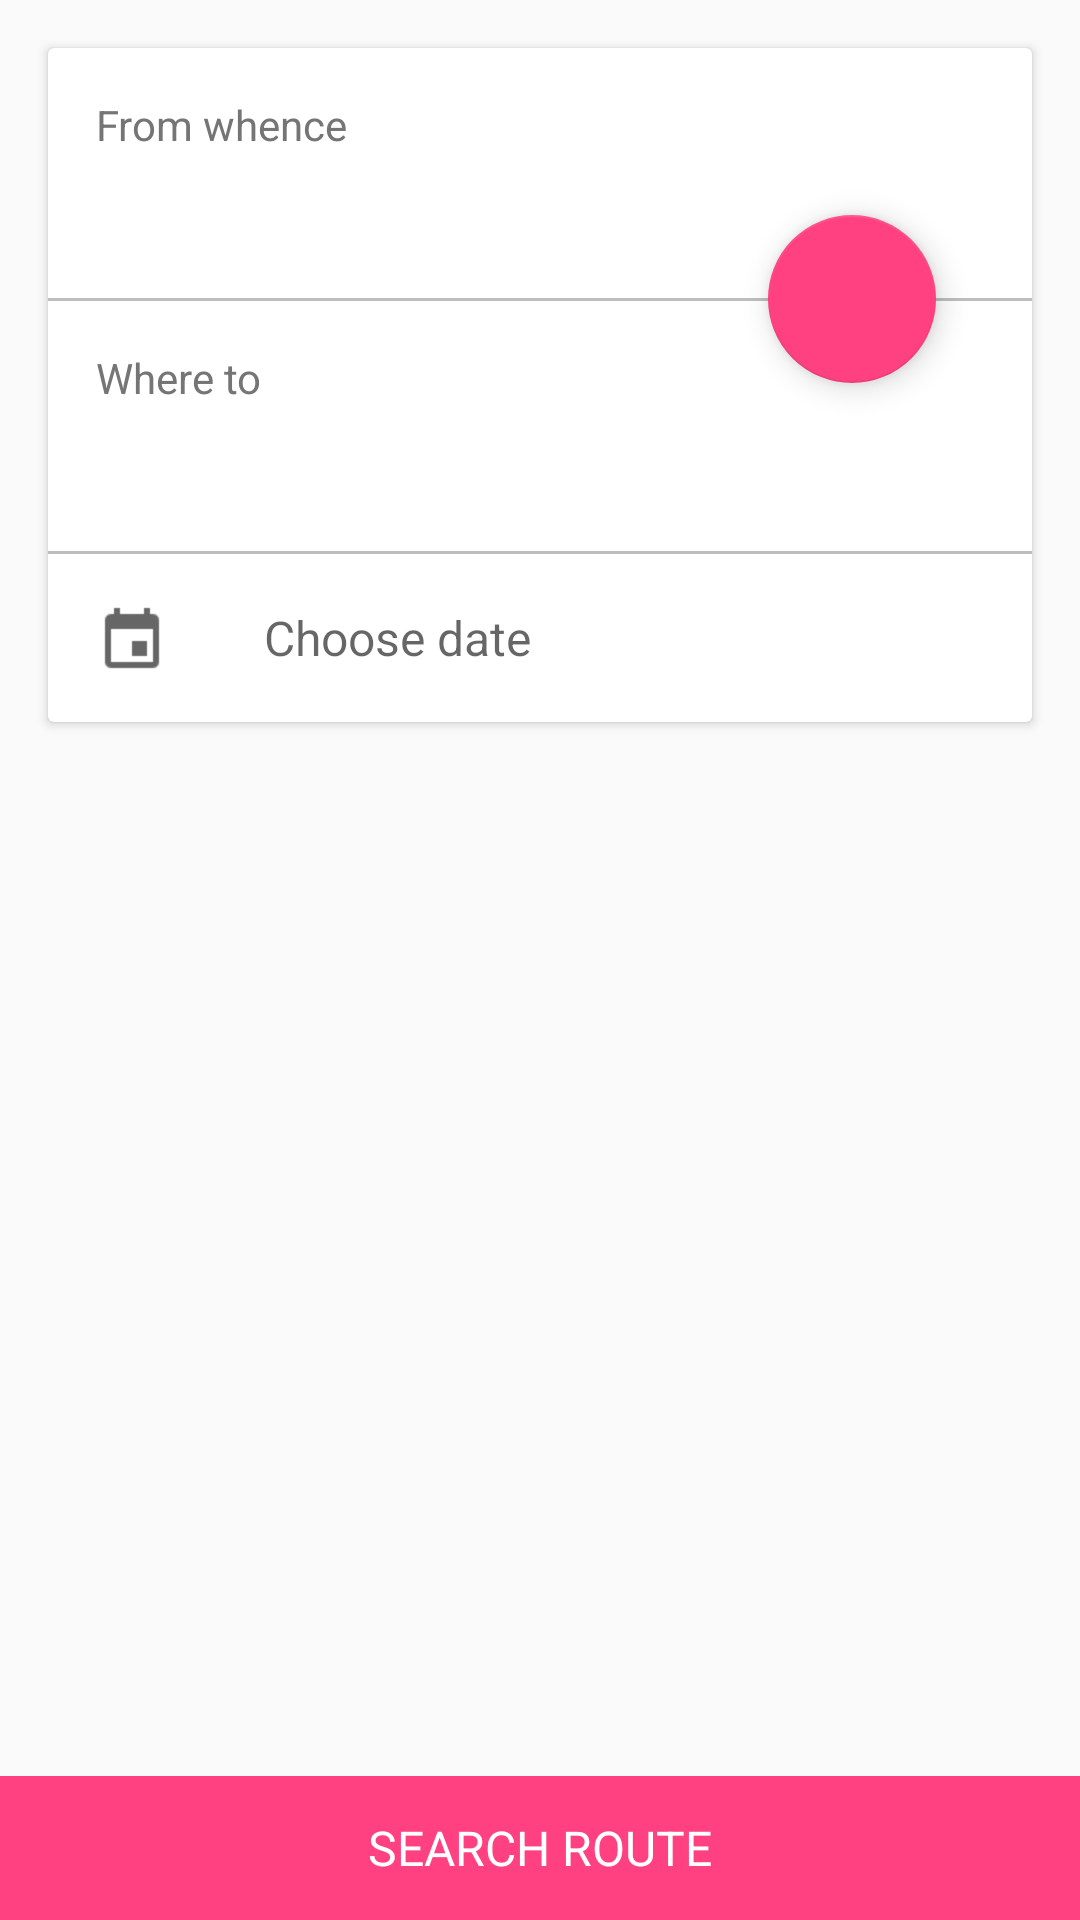

Point at icon controls on the screen. Image size 1080×1920, points as (x,y).
calendar: (132,638)
